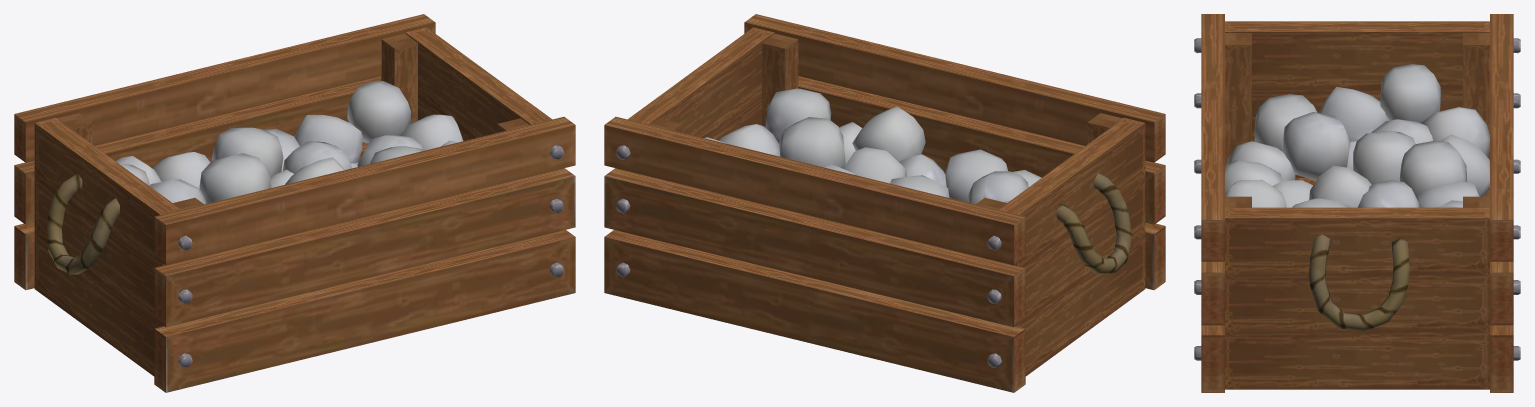
The model's file is crate-apple.glb.
3 renders of one model, left to right at view 1: azimuth 30°, elevation 25°; view 2: azimuth 150°, elevation 25°; view 3: azimuth 270°, elevation 25°, orthographic. The views are drawn at different scales.
Parts seen in each view (by area): view 1: Cylinder_057; view 2: Cylinder_057; view 3: Cylinder_057.
Part boxes in pixels (<box>): Cylinder_057: <box>14,14,575,392</box>; Cylinder_057: <box>604,14,1165,392</box>; Cylinder_057: <box>1194,14,1520,392</box>.
Size of the model in its own units: 0.7138 by 0.2437 by 0.4142.
3 materials, 3 textured.
